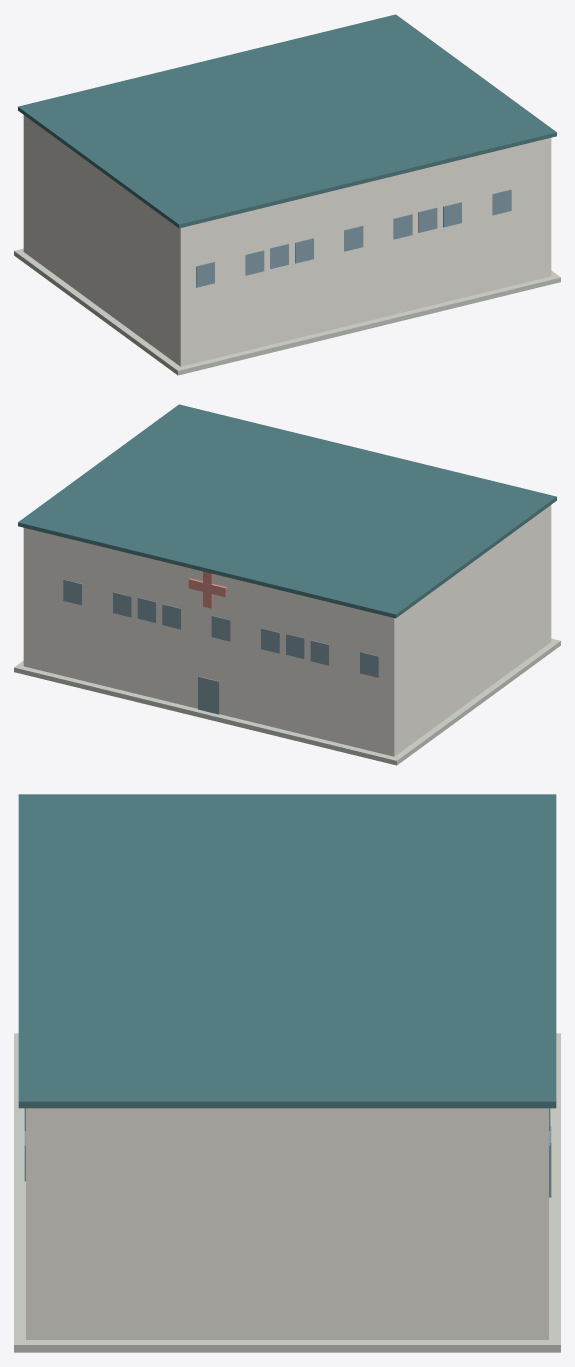
File: hospital.glb
3 renders of one model, top to bottom at view 1: azimuth 30°, elevation 25°; view 2: azimuth 150°, elevation 25°; view 3: azimuth 270°, elevation 25°, orthographic. The views are drawn at different scales.
Parts seen in each view (by area): view 1: hospital__walls, hospital__roof, hospital__plinth; view 2: hospital__walls, hospital__roof, hospital__plinth, hospital__front_door; view 3: hospital__roof, hospital__walls, hospital__plinth.
Boxes of the visible parts, <box> form: hospital__walls: <box>23,115,551,366</box>; hospital__roof: <box>18,14,556,228</box>; hospital__plinth: <box>14,248,560,375</box>; hospital__walls: <box>23,505,551,756</box>; hospital__roof: <box>18,404,556,618</box>; hospital__plinth: <box>14,638,560,765</box>; hospital__front_door: <box>198,676,219,714</box>; hospital__roof: <box>18,794,556,1108</box>; hospital__walls: <box>26,1108,548,1339</box>; hospital__plinth: <box>14,1033,560,1352</box>.
Size of the model in its own units: 31 by 11.55 by 23.
